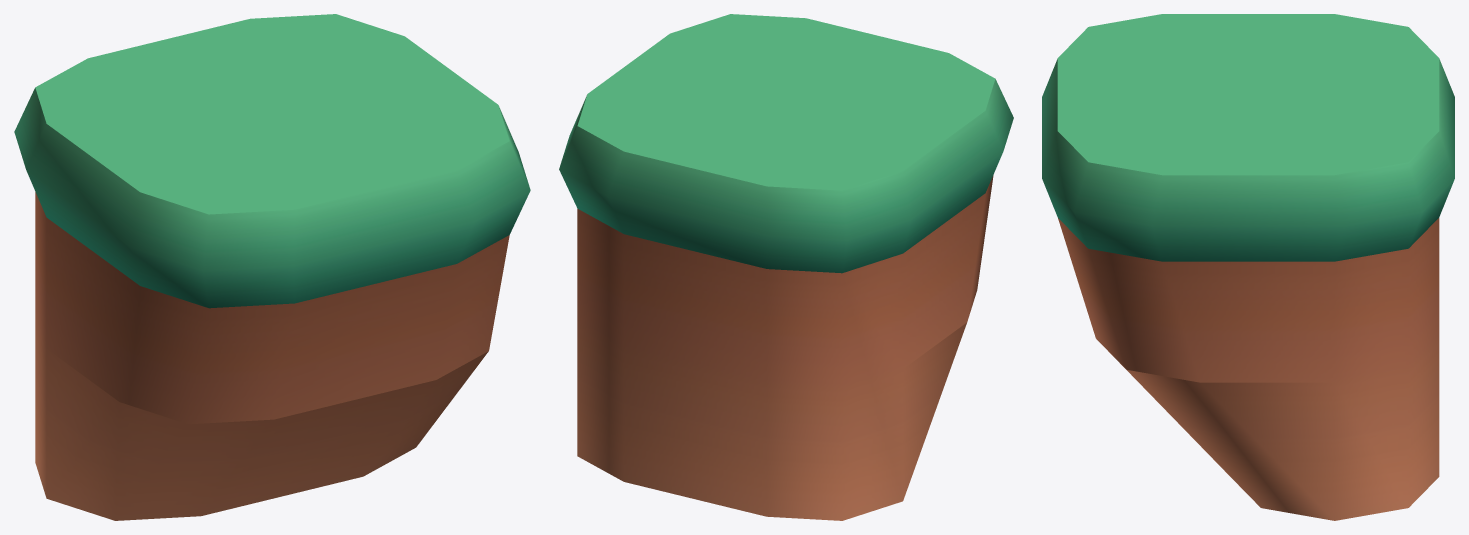
File: block-grass-edge.glb
The picture shows the model from 3 angles, left to right: view 1: azimuth 30°, elevation 25°; view 2: azimuth 150°, elevation 25°; view 3: azimuth 270°, elevation 25°; orthographic projection. The views are drawn at different scales.
Parts seen in each view (by area): view 1: block-grass-edge; view 2: block-grass-edge; view 3: block-grass-edge.
Boxes of the visible parts, box(x1,y1,x2,y2) form: block-grass-edge: box(14, 14, 530, 520); block-grass-edge: box(559, 14, 1013, 520); block-grass-edge: box(1042, 14, 1454, 520).
Bounding box in the file's own units: 1.08 × 1 × 1.08.
Materials: 1 (1 with a texture image).
